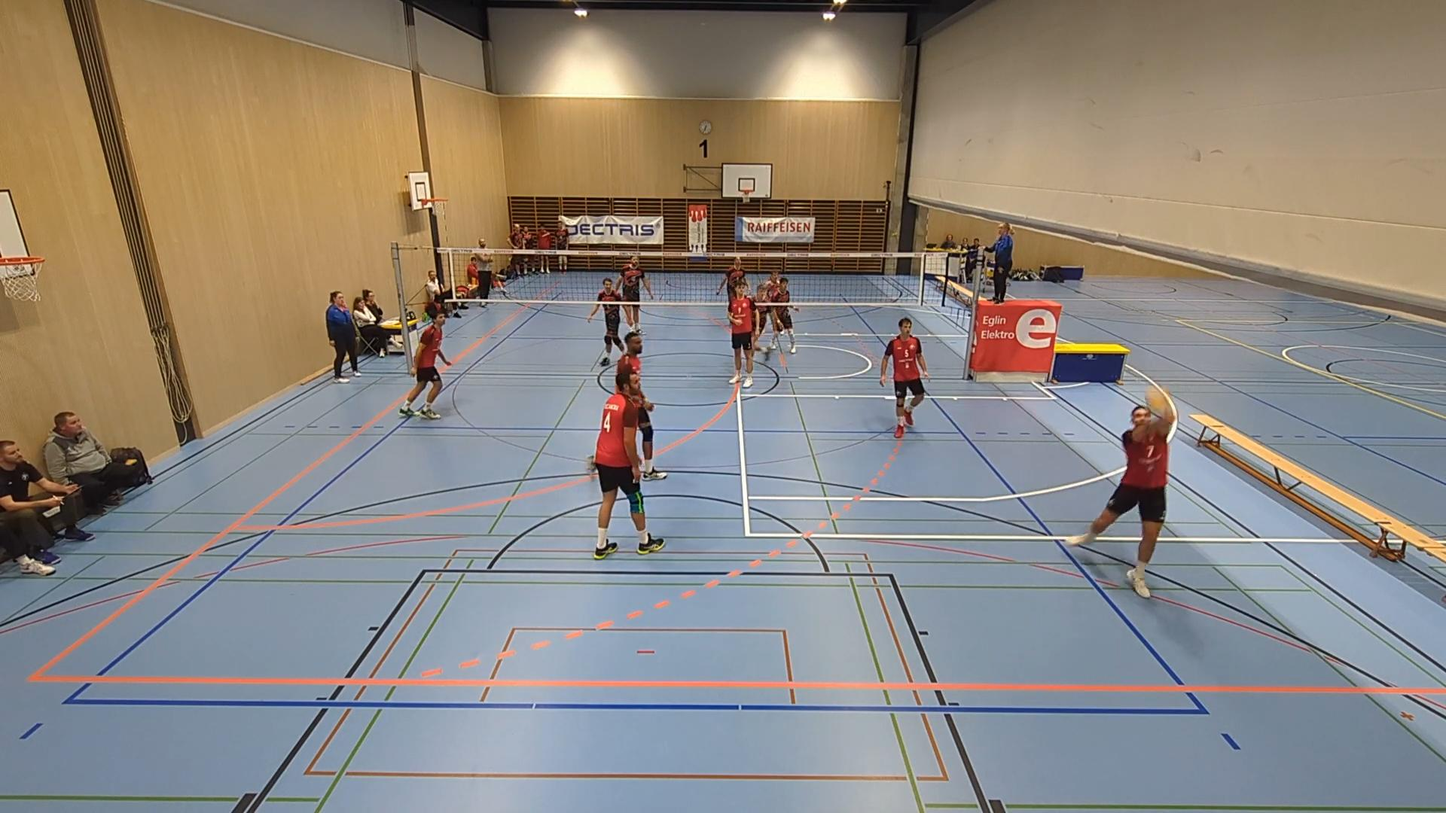alzata: (1059, 406, 1174, 594)
